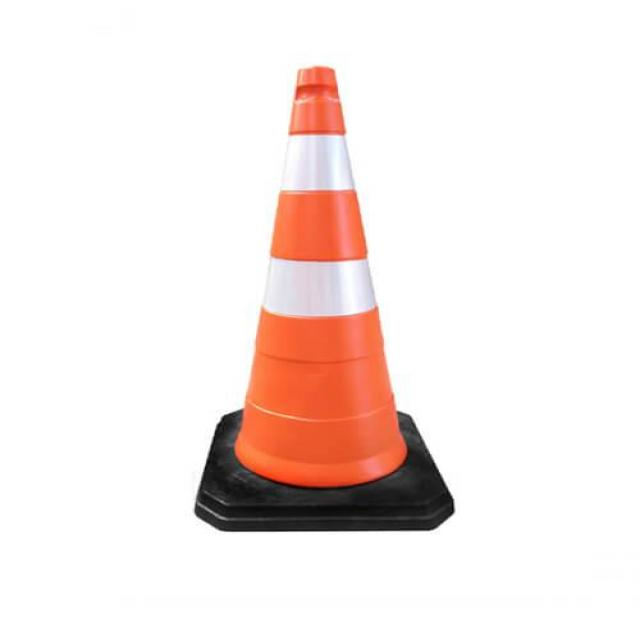cone: (233, 52, 412, 488)
